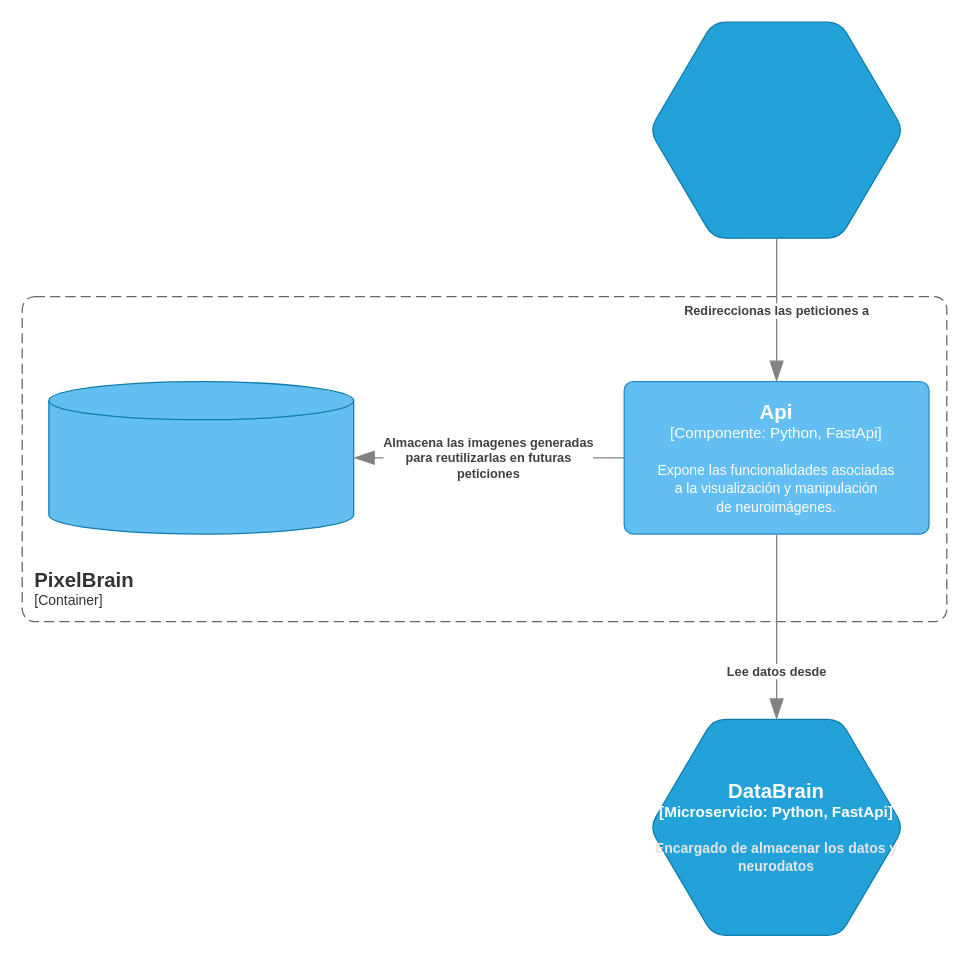
Image size: 969x958. Some labels were removed from this diagram. The centre of each missing label's shape, as x and y in pixels:
"Cache [Componente: Redis] Almacenamiento tipo llave valor con alta velocidad." belongs at point (201, 457).
"Gateway [Microservicio: Traefik] Puerta de enlace y proxy inverso" belongs at point (776, 129).
